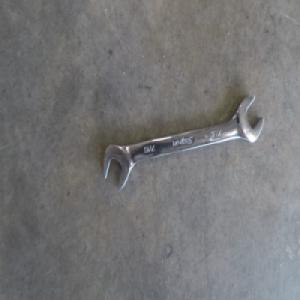Wrench: (102, 95, 264, 190)
